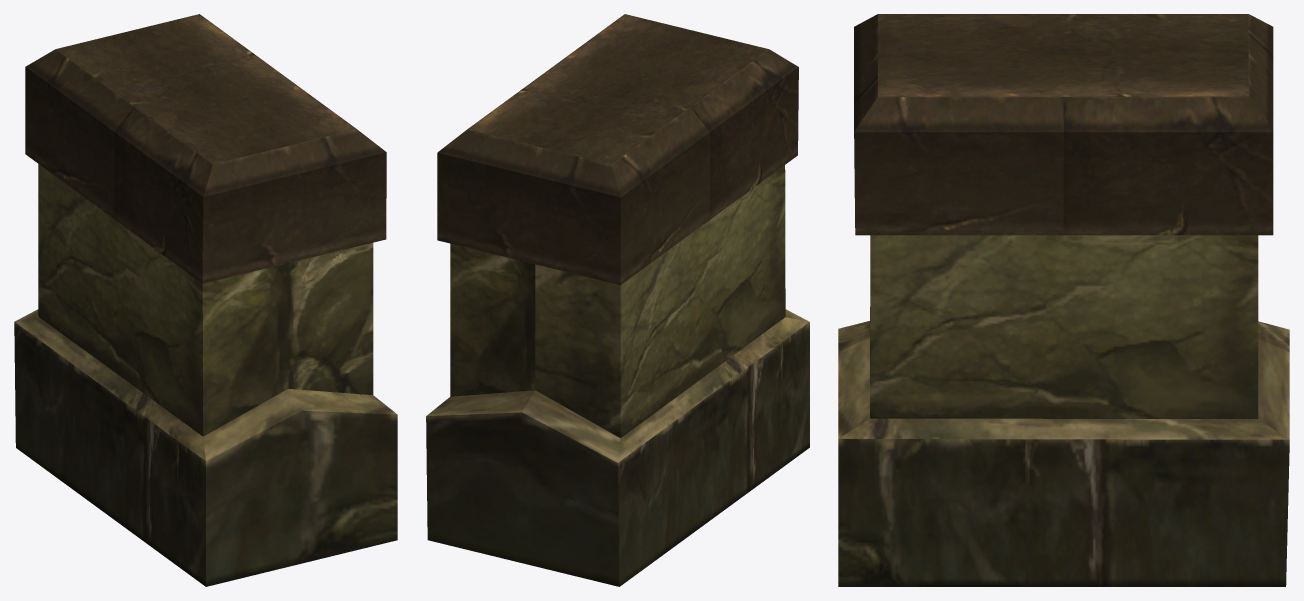
Rendered from Stage001_Bujian_03.FBX.
The picture shows the model from 3 angles, left to right: view 1: azimuth 30°, elevation 25°; view 2: azimuth 150°, elevation 25°; view 3: azimuth 270°, elevation 25°; orthographic projection. The views are drawn at different scales.
Visible parts, largest first — view 1: Stage001_Bujian_03; view 2: Stage001_Bujian_03; view 3: Stage001_Bujian_03.
Part boxes in pixels (bbox=[...]): Stage001_Bujian_03: bbox=[14, 14, 397, 586]; Stage001_Bujian_03: bbox=[426, 14, 809, 586]; Stage001_Bujian_03: bbox=[838, 14, 1289, 586].
Size of the model in its own units: 84.66 by 171 by 147.
1 material, 1 textured.
